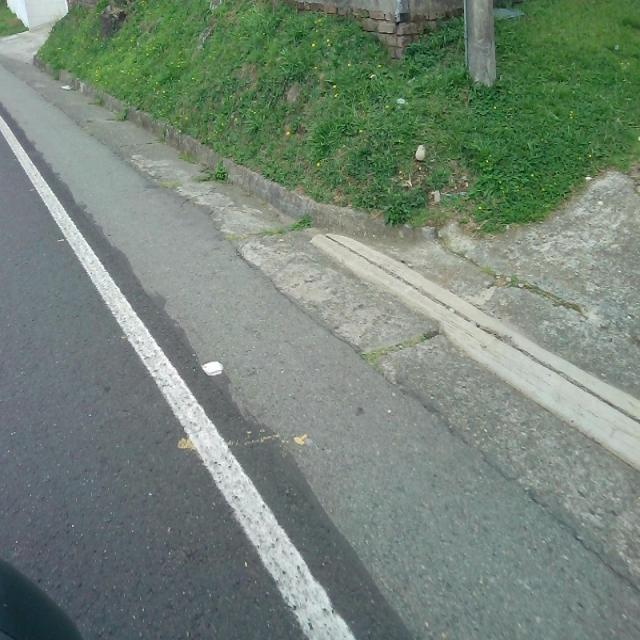DITCH: (1, 24, 638, 638), (1, 52, 638, 638), (1, 58, 639, 639)
